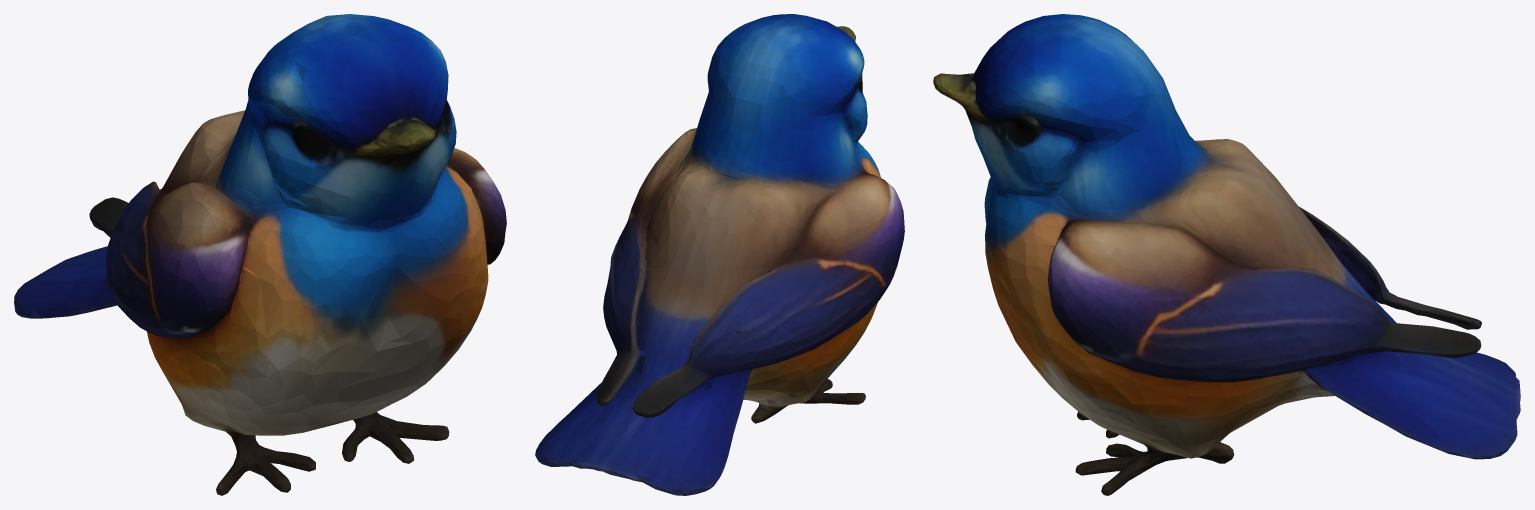
File: garden-songbird.glb
The picture shows the model from 3 angles, left to right: view 1: azimuth 30°, elevation 25°; view 2: azimuth 150°, elevation 25°; view 3: azimuth 270°, elevation 25°; orthographic projection. The views are drawn at different scales.
Parts seen in each view (by area): view 1: world; view 2: world; view 3: world.
Boxes of the visible parts, box(x1,y1,x2,y2) form: world: box(14, 14, 506, 495); world: box(535, 14, 904, 495); world: box(933, 14, 1520, 495).
Size of the model in its own units: 0.581 by 0.7885 by 0.9995.
Materials: 1 (1 with a texture image).
